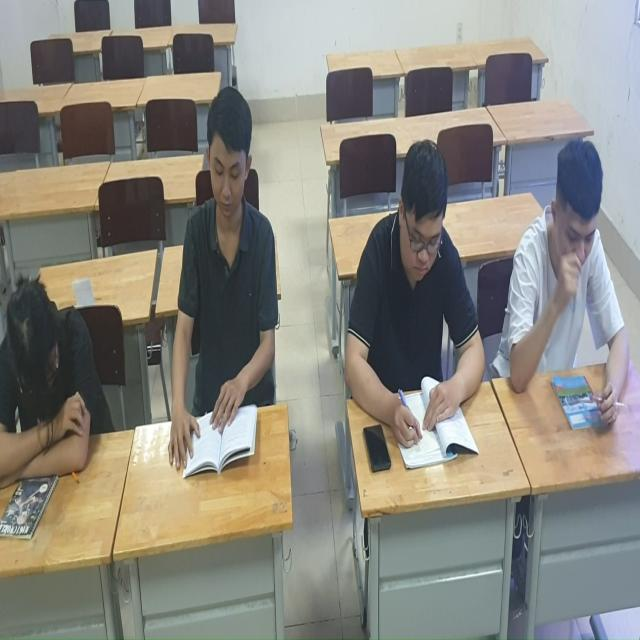raise_hand: (500, 120, 640, 434)
read: (337, 140, 491, 491), (167, 68, 289, 471)
sleep: (1, 285, 101, 514)
